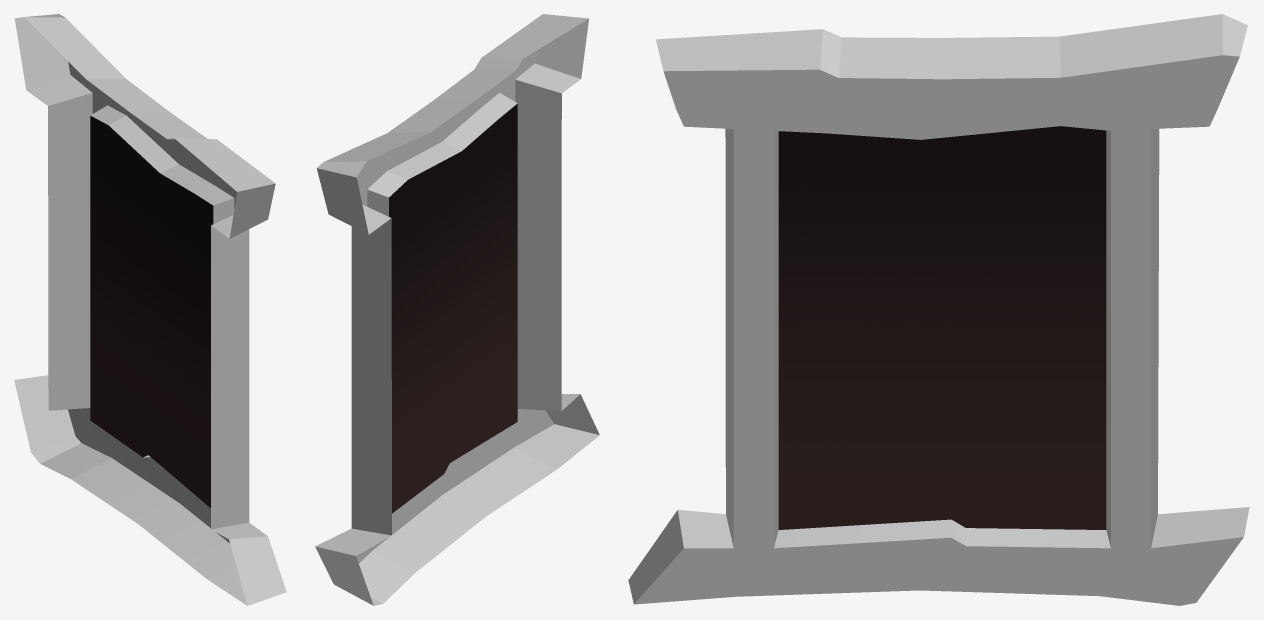
File: lower_city_window_08.fbx
The picture shows the model from 3 angles, left to right: view 1: azimuth 30°, elevation 25°; view 2: azimuth 150°, elevation 25°; view 3: azimuth 270°, elevation 25°; orthographic projection. The views are drawn at different scales.
Parts seen in each view (by area): view 1: lower_city_window_08; view 2: lower_city_window_08; view 3: lower_city_window_08.
Part boxes in pixels (x1=…): lower_city_window_08: x1=14, y1=14, x2=286, y2=605; lower_city_window_08: x1=315, y1=14, x2=599, y2=605; lower_city_window_08: x1=628, y1=14, x2=1249, y2=605.
Size of the model in its own units: 0.1215 by 1.22 by 1.19.
